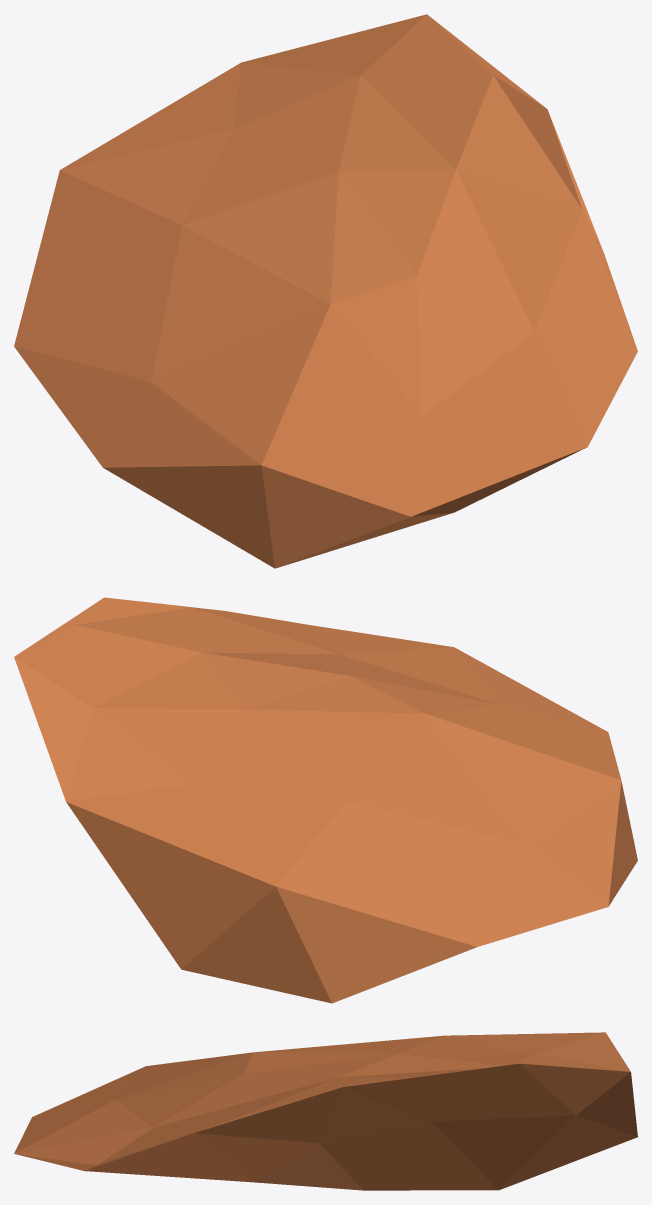
File: Desert_Rock_Variation_4.fbx
The picture shows the model from 3 angles, top to bottom: view 1: azimuth 30°, elevation 25°; view 2: azimuth 150°, elevation 25°; view 3: azimuth 270°, elevation 25°; orthographic projection. The views are drawn at different scales.
Visible parts, largest first — view 1: Desert Rock 2; view 2: Desert Rock 2; view 3: Desert Rock 2.
Boxes of the visible parts, <box> form: Desert Rock 2: <box>14,14,637,568</box>; Desert Rock 2: <box>14,597,637,1003</box>; Desert Rock 2: <box>14,1032,637,1190</box>.
Size of the model in its own units: 33.36 by 19.04 by 45.25.
